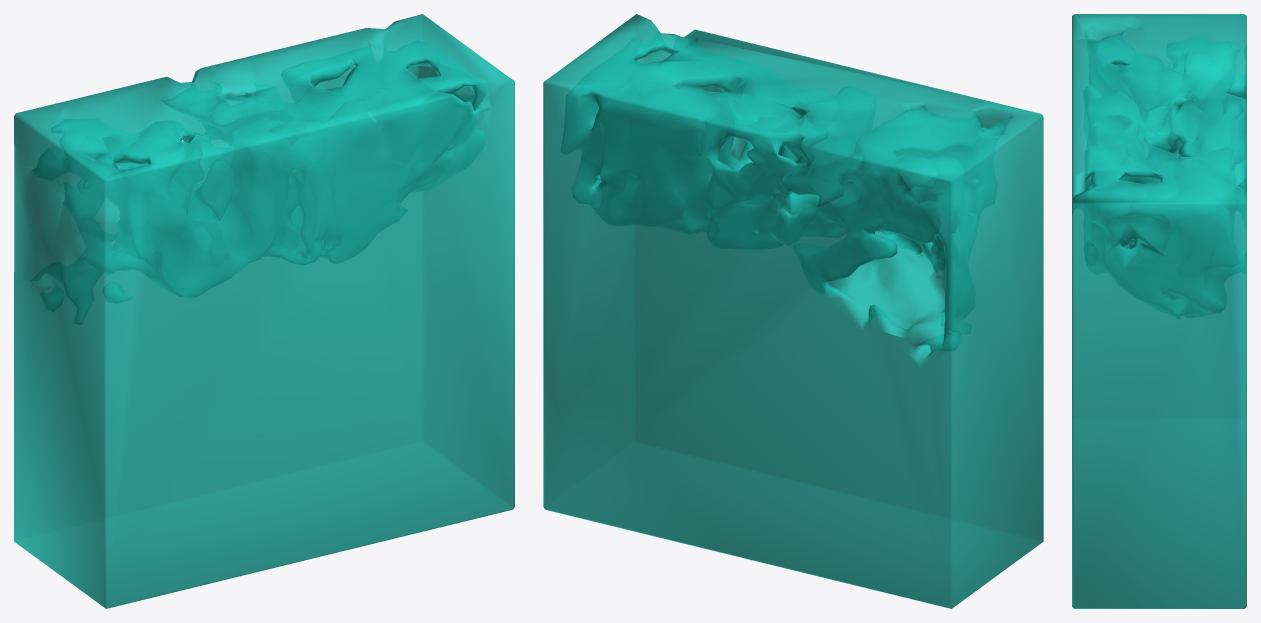
3 views of the same model, side by side, from view 1: azimuth 30°, elevation 25°; view 2: azimuth 150°, elevation 25°; view 3: azimuth 270°, elevation 25° (orthographic). The views are drawn at different scales.
Visible parts, largest first — view 1: Liquid_Domain; view 2: Liquid_Domain; view 3: Liquid_Domain.
Part boxes in pixels (x1,y1,x2,y2): Liquid_Domain: [14, 14, 514, 608]; Liquid_Domain: [543, 14, 1043, 608]; Liquid_Domain: [1072, 14, 1246, 608].
Size of the model in its own units: 884 by 885 by 344.
